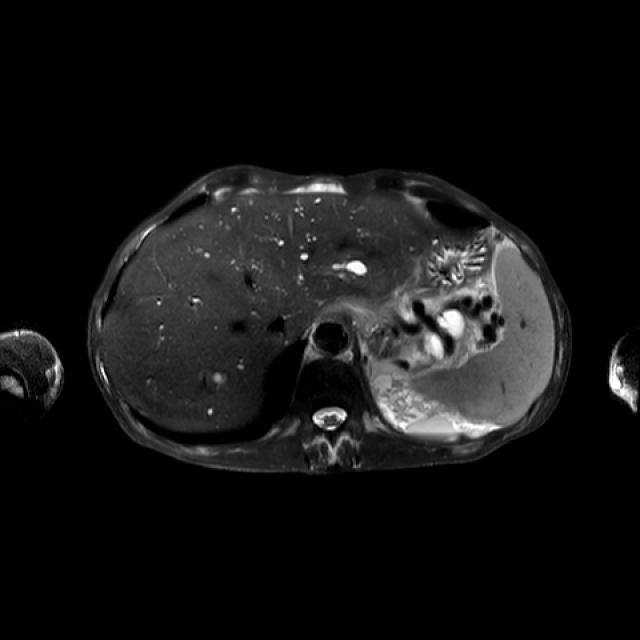sol: (374, 372, 434, 427), (442, 309, 467, 338)
